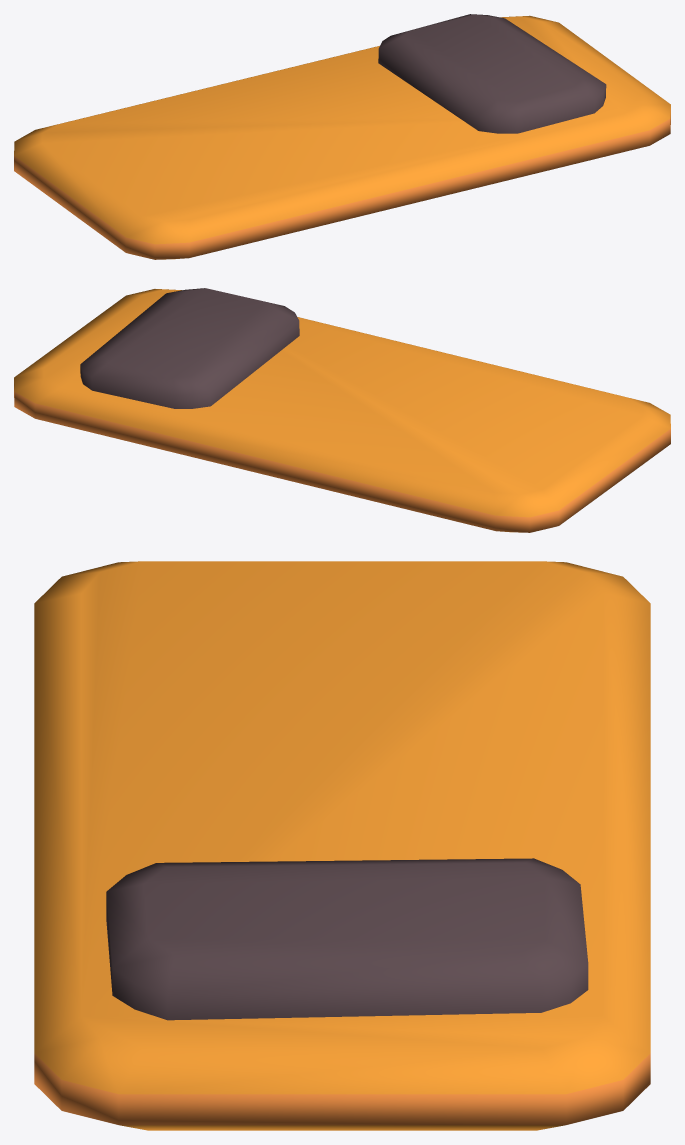
Rendered from prisoner_mattress01.fbx.
3 views of the same model, one above another, from view 1: azimuth 30°, elevation 25°; view 2: azimuth 150°, elevation 25°; view 3: azimuth 270°, elevation 25° (orthographic). The views are drawn at different scales.
Parts seen in each view (by area): view 1: prisoner_mattress01; view 2: prisoner_mattress01; view 3: prisoner_mattress01.
Part boxes in pixels (x1,y1,x2,y2): prisoner_mattress01: (14,14,670,259); prisoner_mattress01: (14,288,670,532); prisoner_mattress01: (34,561,650,1130).
Bounding box in the file's own units: 1.91 × 0.2036 × 0.936.
